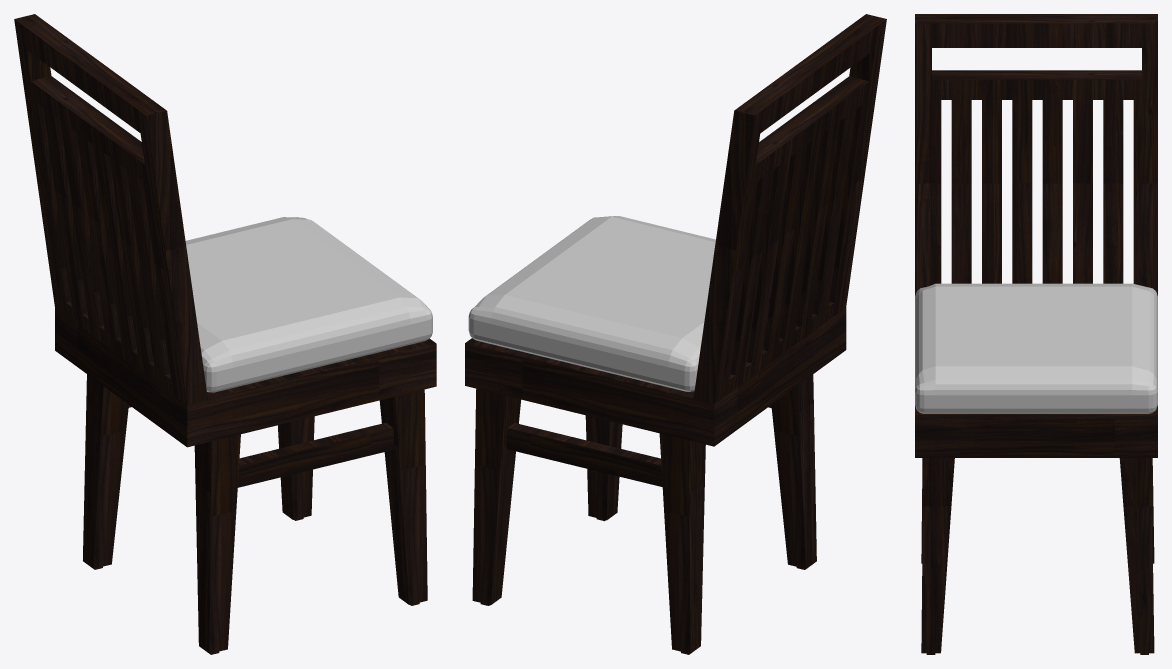
File: Chair.fbx
The picture shows the model from 3 angles, left to right: view 1: azimuth 30°, elevation 25°; view 2: azimuth 150°, elevation 25°; view 3: azimuth 270°, elevation 25°; orthographic projection. The views are drawn at different scales.
Visible parts, largest first — view 1: Base, Cushion; view 2: Base, Cushion; view 3: Base, Cushion.
Boxes of the visible parts, bbox=[...] form: Base: bbox=[14, 14, 436, 654]; Cushion: bbox=[185, 217, 432, 392]; Base: bbox=[465, 14, 886, 654]; Cushion: bbox=[468, 216, 715, 391]; Base: bbox=[915, 14, 1157, 654]; Cushion: bbox=[915, 283, 1157, 413].
Bounding box in the file's own units: 355 × 656 × 280.
